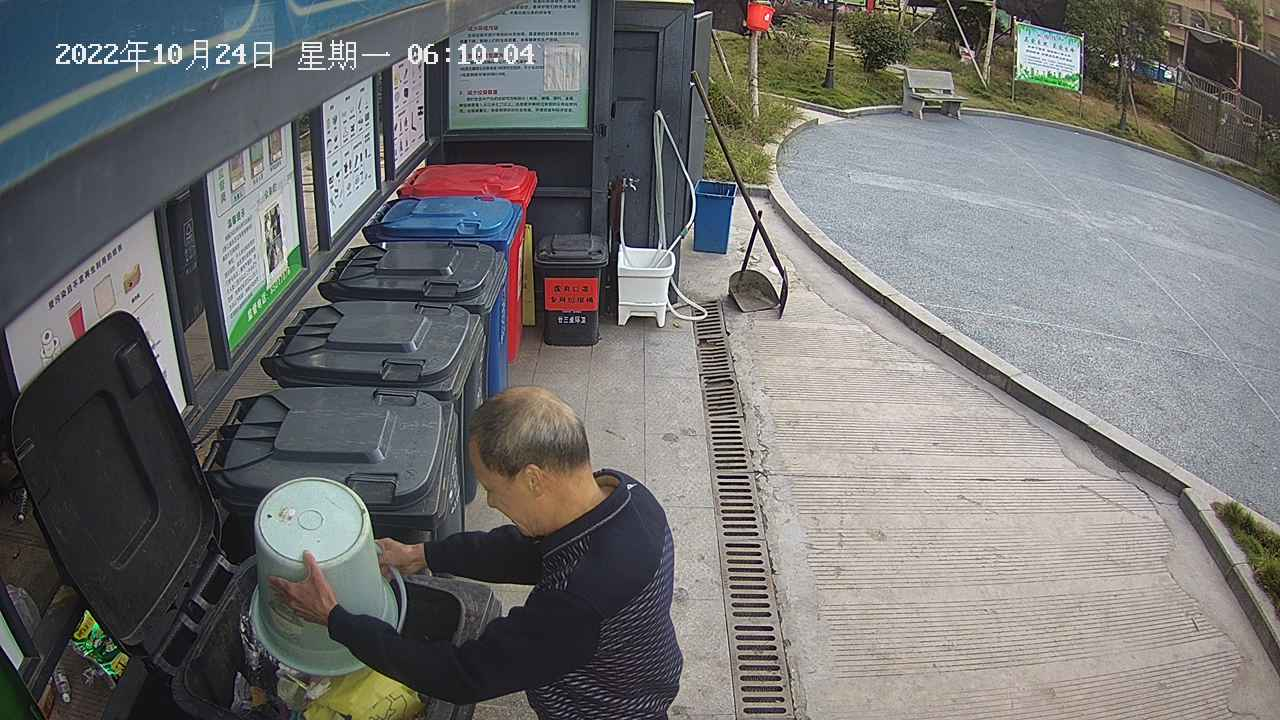person: (264, 380, 690, 720)
